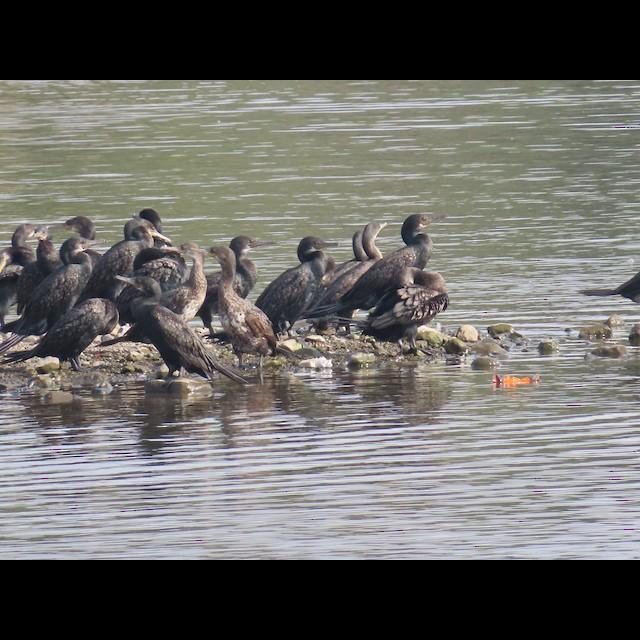cormorant: (112, 274, 248, 386), (372, 272, 450, 346), (34, 236, 106, 294), (284, 235, 338, 301), (390, 212, 452, 266), (113, 218, 161, 268), (230, 235, 278, 272), (163, 240, 205, 272), (360, 220, 388, 256)
